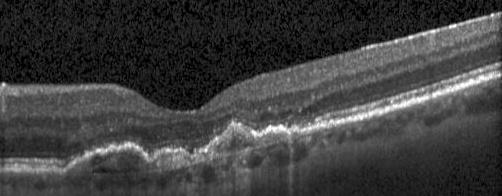subretinal_hyperreflective_material: (61, 122, 302, 175)
